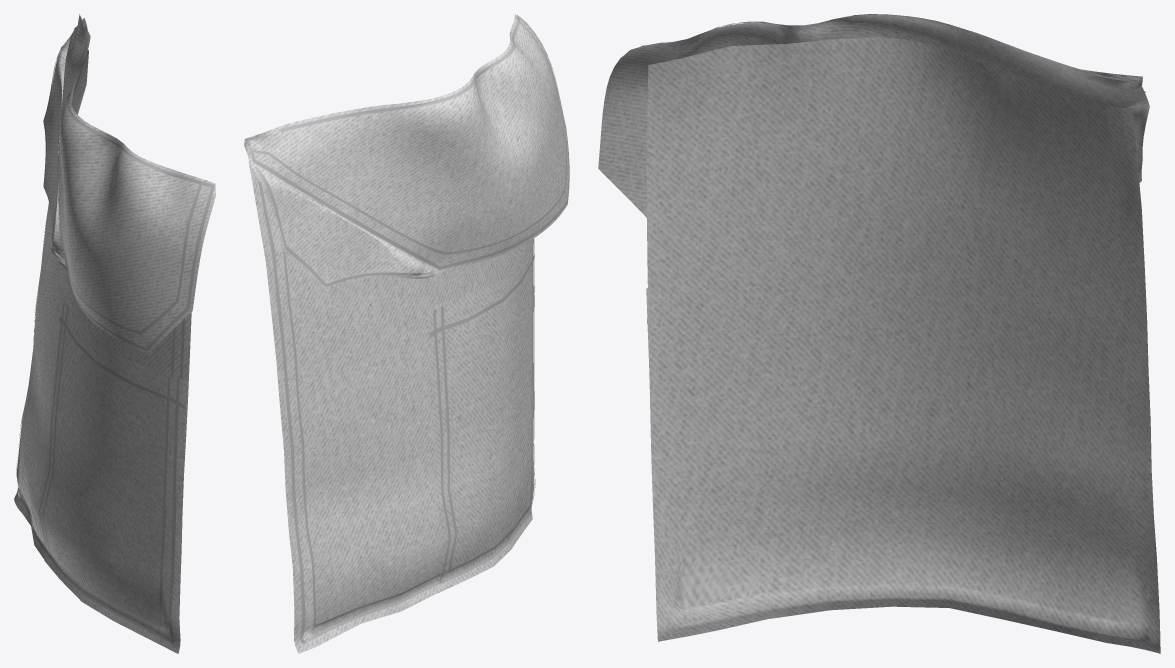
File: Pocket_Left_V1.glb
The picture shows the model from 3 angles, left to right: view 1: azimuth 30°, elevation 25°; view 2: azimuth 150°, elevation 25°; view 3: azimuth 270°, elevation 25°; orthographic projection. The views are drawn at different scales.
Parts seen in each view (by area): view 1: Pocket_Left_V11, Pocket_Left_V1_N1, Rope1; view 2: Pocket_Left_V11, Pocket_Left_V1_N1, Rope1; view 3: Pocket_Left_V11.
Boxes of the visible parts, bbox=[...] form: Pocket_Left_V11: bbox=[14, 14, 215, 653]; Pocket_Left_V1_N1: bbox=[37, 297, 186, 653]; Rope1: bbox=[16, 18, 214, 643]; Pocket_Left_V11: bbox=[244, 14, 568, 653]; Pocket_Left_V1_N1: bbox=[427, 238, 534, 593]; Rope1: bbox=[248, 15, 569, 643]; Pocket_Left_V11: bbox=[598, 14, 1160, 653].
Bounding box in the file's own units: 0.0756 × 0.2599 × 0.2127.
Materials: 3 (3 with a texture image).
